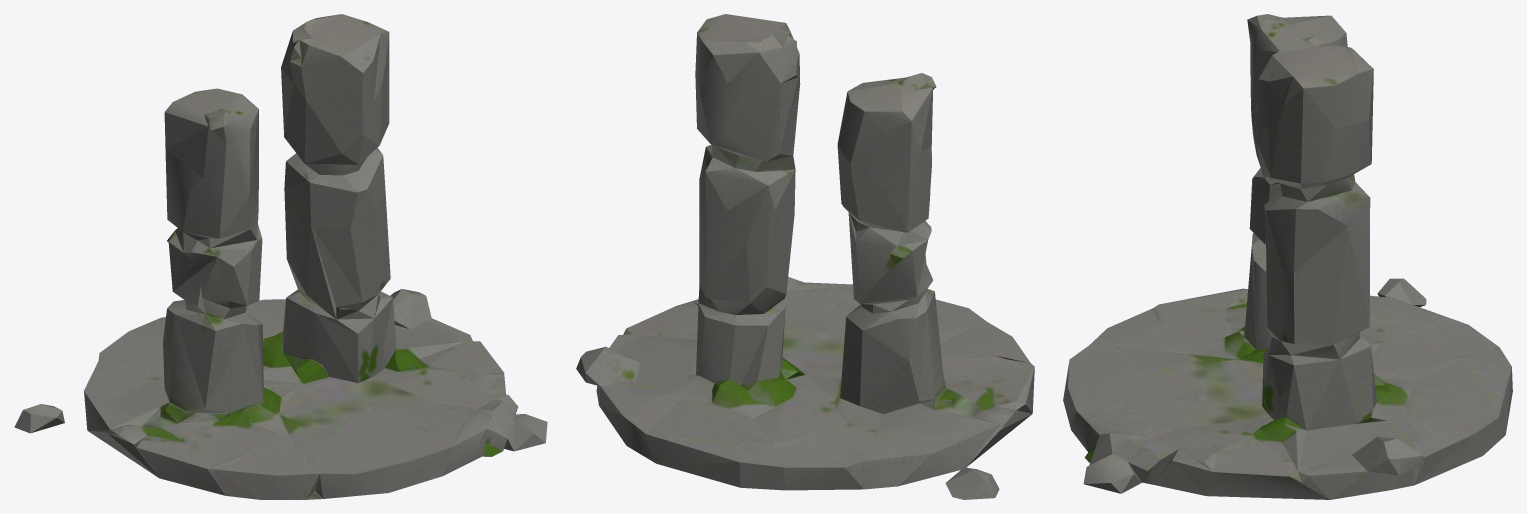
Rendered from saeule.glb.
The picture shows the model from 3 angles, left to right: view 1: azimuth 30°, elevation 25°; view 2: azimuth 150°, elevation 25°; view 3: azimuth 270°, elevation 25°; orthographic projection. The views are drawn at different scales.
Bounding box in the file's own units: 1.9 × 1.58 × 1.69.
1 material, 1 textured.
